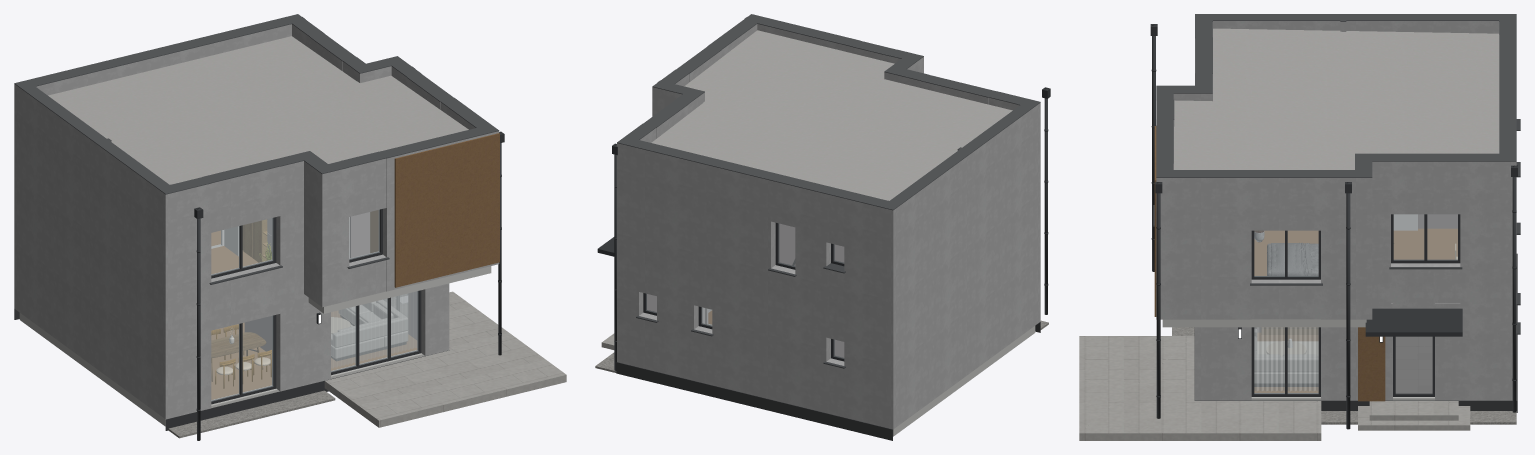
The model's file is house_stano_v1.glb.
3 renders of one model, left to right at view 1: azimuth 30°, elevation 25°; view 2: azimuth 150°, elevation 25°; view 3: azimuth 270°, elevation 25°, orthographic. The views are drawn at different scales.
Parts seen in each view (by area): view 1: Shell, accent_clad_S, D1_S_1.09_HS_glass, curtain_sheer_S, D1_S_1.08_glass, W2_S_2.02_glass, W2_S_2.03_glass, D1_S_1.09_HS_frame, Nordic Harmony Wardrobe, sect_back_s, D1_S_1.08_frame, downpipe2 (+4 smaller); view 2: Shell, downpipe2, W2_N_2.06_stair_glass, downpipe0; view 3: Shell, D1_E_terrace_1.09_glass, curtain_sheer_E, W2_E_2.04_glass, W2_E_2.05_glass, canopy, accent_clad_E, downpipe3, downpipe0, downpipe1, sect_back_e, D1_E_terrace_1.09_frame (+8 smaller).
Boxes of the visible parts, bbox=[...] form: Shell: bbox=[14, 14, 566, 438]; accent_clad_S: bbox=[394, 133, 499, 287]; D1_S_1.09_HS_glass: bbox=[331, 291, 418, 371]; curtain_sheer_S: bbox=[331, 291, 416, 367]; D1_S_1.08_glass: bbox=[211, 316, 273, 401]; W2_S_2.02_glass: bbox=[211, 218, 273, 275]; W2_S_2.03_glass: bbox=[349, 210, 379, 259]; D1_S_1.09_HS_frame: bbox=[331, 290, 421, 375]; Nordic Harmony Wardrobe: bbox=[242, 218, 271, 262]; sect_back_s: bbox=[333, 317, 403, 347]; D1_S_1.08_frame: bbox=[211, 315, 276, 404]; downpipe2: bbox=[197, 208, 200, 440]; Shell: bbox=[595, 14, 1048, 440]; downpipe2: bbox=[1044, 88, 1047, 314]; W2_N_2.06_stair_glass: bbox=[778, 223, 794, 266]; downpipe0: bbox=[614, 144, 616, 370]; Shell: bbox=[1079, 14, 1517, 440]; D1_E_terrace_1.09_glass: bbox=[1254, 327, 1318, 393]; curtain_sheer_E: bbox=[1254, 327, 1318, 390]; W2_E_2.04_glass: bbox=[1254, 231, 1318, 276]; W2_E_2.05_glass: bbox=[1394, 214, 1457, 259]; canopy: bbox=[1365, 308, 1462, 336]; accent_clad_E: bbox=[1358, 327, 1385, 401]; downpipe3: bbox=[1346, 182, 1350, 429]; downpipe0: bbox=[1512, 165, 1516, 412]; downpipe1: bbox=[1156, 182, 1160, 418]; sect_back_e: bbox=[1254, 356, 1318, 371]; D1_E_terrace_1.09_frame: bbox=[1251, 327, 1320, 396].
Size of what is drawn, in the model's own units: 10.98 by 7.18 by 11.4.
Materials: 105 (51 with a texture image).
